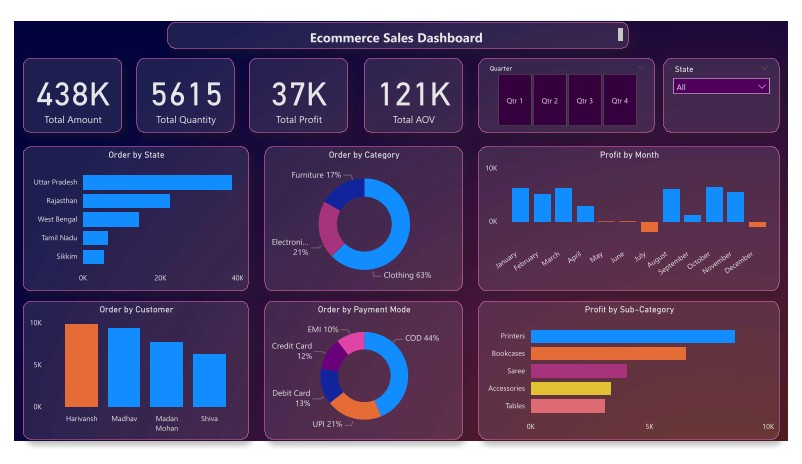

What the dashboard file says about the page in this screenshot:
{"tool":"powerbi","page":{"name":"Page 1","canvas":[1280,720],"ordinal":0},"visuals":[{"type":"textbox","box":[253,12,764,45],"z":0},{"type":"columnChart","title":"Profit by Month","fields":{"Y":["Sum(Details.Profit)"],"Category":["Orders.Order Date.Variation.Date Hierarchy.Month"]},"box":[768,218,498,240],"z":1000},{"type":"barChart","title":"Profit by Sub-Category","fields":{"Category":["Details.Sub-Category"],"Y":["Sum(Details.Profit)"]},"box":[768,474,498,230],"z":2000},{"type":"donutChart","title":"Order by Category","fields":{"Category":["Details.Category"],"Y":["Sum(Details.Quantity)"]},"box":[414,218,328,240],"z":3000},{"type":"donutChart","title":"Order by Payment Mode","fields":{"Category":["Details.PaymentMode","Details.Category"],"Y":["Sum(Details.Quantity)"]},"box":[414,474,328,230],"z":4000},{"type":"card","fields":{"Values":["Sum(Details.Amount)"]},"box":[14,72,164,124],"z":5000},{"type":"card","fields":{"Values":["Sum(Details.Quantity)"]},"box":[202,72,162,124],"z":6000},{"type":"card","fields":{"Values":["Sum(Details.Profit)"]},"box":[388,72,164,124],"z":7000},{"type":"card","fields":{"Values":["Sum(Details.AOV)"]},"box":[578,72,164,124],"z":8000},{"type":"barChart","title":"Order by State","fields":{"Category":["Orders.State"],"Y":["Sum(Details.Amount)"]},"box":[14,218,374,240],"z":9000},{"type":"columnChart","title":"Order by Customer","fields":{"Category":["Orders.CustomerName"],"Y":["Sum(Details.Amount)"]},"box":[14,474,374,230],"z":10000},{"type":"slicer","fields":{"Values":["Orders.Order Date.Variation.Date Hierarchy.Quarter"]},"box":[768,72,292,124],"z":11000},{"type":"slicer","fields":{"Values":["Orders.State"]},"box":[1074,72,192,124],"z":12000}]}

Visuals, with their boxes in screenshot pixels (x1, y1, x2, y2), scaled from the page's 1280x720 canvas onto the 802x464 screenshot:
textbox: (159, 8, 637, 37)
"Profit by Month" columnChart: (481, 140, 793, 295)
"Profit by Sub-Category" barChart: (481, 305, 793, 454)
"Order by Category" donutChart: (259, 140, 465, 295)
"Order by Payment Mode" donutChart: (259, 305, 465, 454)
card - Sum(Details.Amount): (9, 46, 112, 126)
card - Sum(Details.Quantity): (127, 46, 228, 126)
card - Sum(Details.Profit): (243, 46, 346, 126)
card - Sum(Details.AOV): (362, 46, 465, 126)
"Order by State" barChart: (9, 140, 243, 295)
"Order by Customer" columnChart: (9, 305, 243, 454)
slicer - Orders.Order Date.Variation.Date Hierarchy.Quarter: (481, 46, 664, 126)
slicer - Orders.State: (673, 46, 793, 126)
